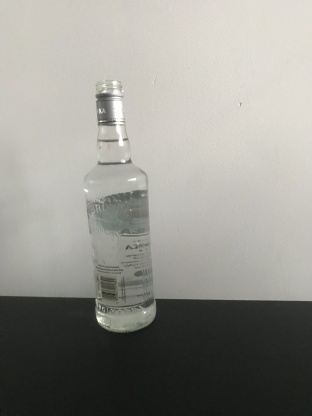nakretka: (94, 77, 127, 127), (92, 78, 120, 135)
